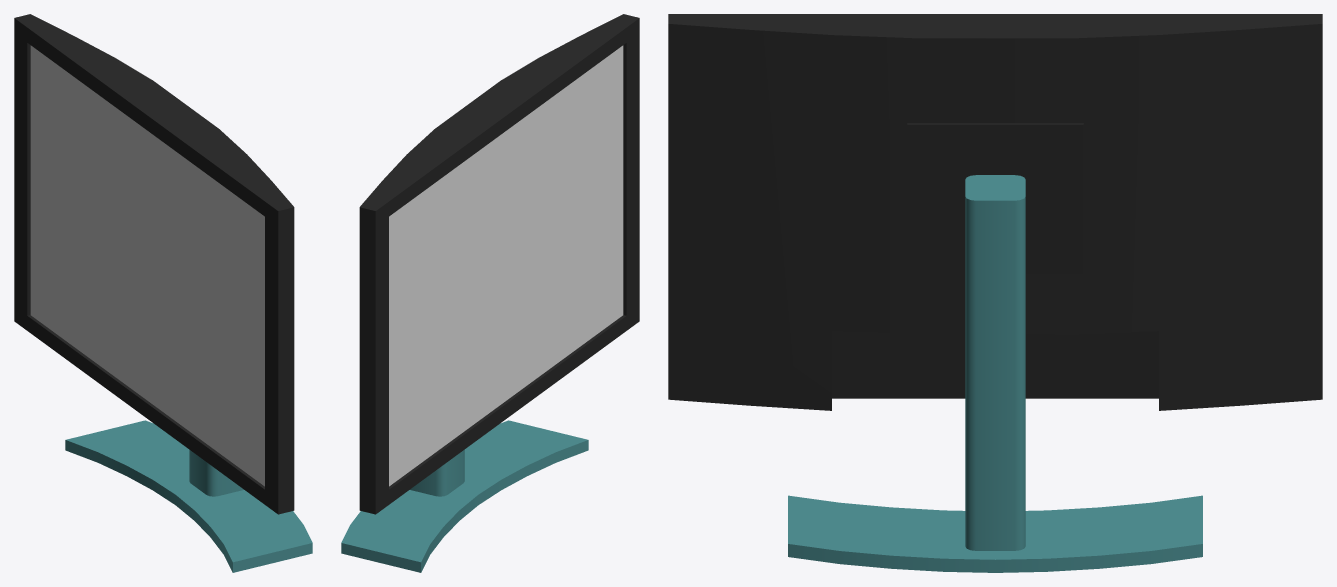
File: PH_Computer.fbx
3 views of the same model, side by side, from view 1: azimuth 30°, elevation 25°; view 2: azimuth 150°, elevation 25°; view 3: azimuth 270°, elevation 25° (orthographic). The views are drawn at different scales.
Visible parts, largest first — view 1: S_ScreenPC; view 2: S_ScreenPC; view 3: S_ScreenPC.
Boxes of the visible parts, box(x1,y1,x2,y2) form: S_ScreenPC: box(14, 14, 312, 572); S_ScreenPC: box(341, 14, 639, 572); S_ScreenPC: box(668, 14, 1322, 572).
Size of the model in its own units: 13.67 by 47.59 by 57.23.
